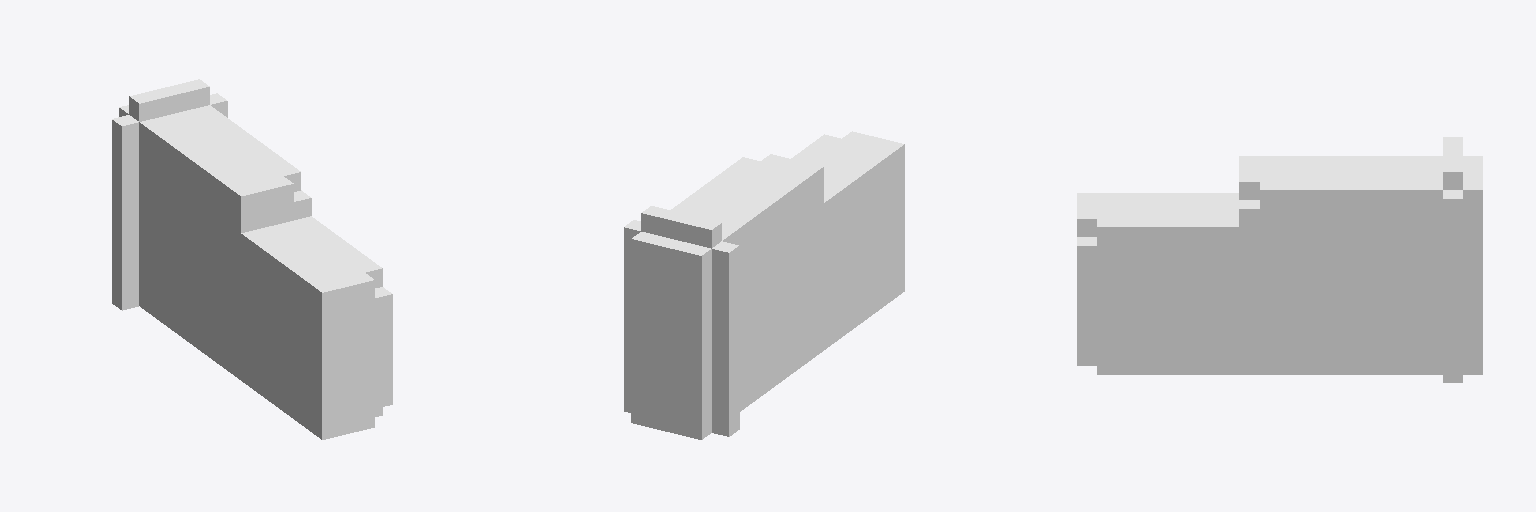
Rendered from handvox.obj.
The picture shows the model from 3 angles: view 1: azimuth 30°, elevation 25°; view 2: azimuth 150°, elevation 25°; view 3: azimuth 270°, elevation 25°; orthographic projection.
Parts seen in each view (by area): view 1: object 1; view 2: object 1; view 3: object 1.
Part boxes in pixels (x1,y1,x2,y2): object 1: (112,79,392,439); object 1: (624,131,904,439); object 1: (1077,137,1482,382).
Size of the model in its own units: 0.6 by 1.1 by 2.